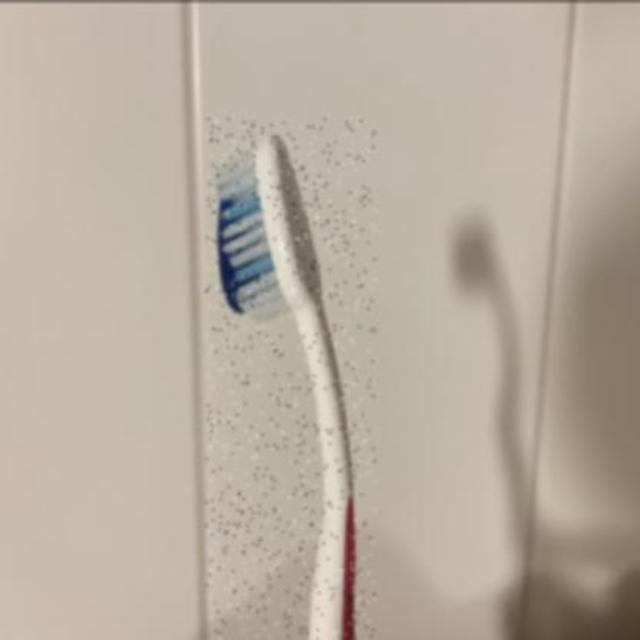toothbrush: (208, 114, 376, 640)
